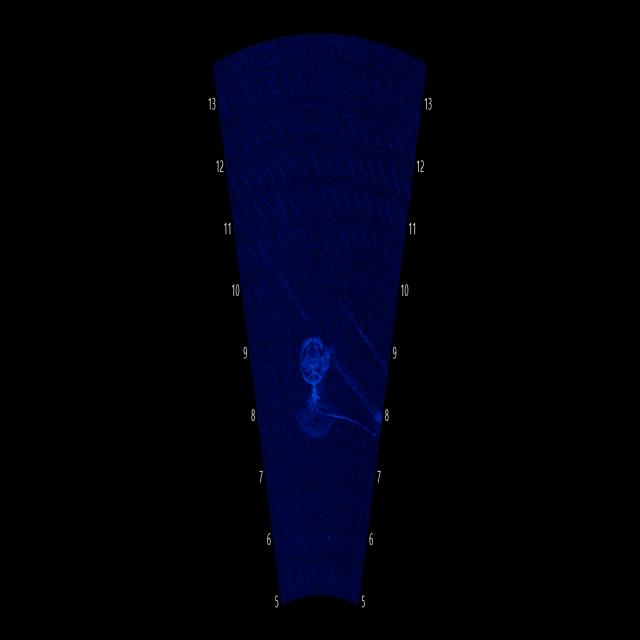circle: (291, 303, 336, 402)
